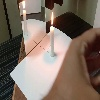fire: (51, 10, 54, 27)
